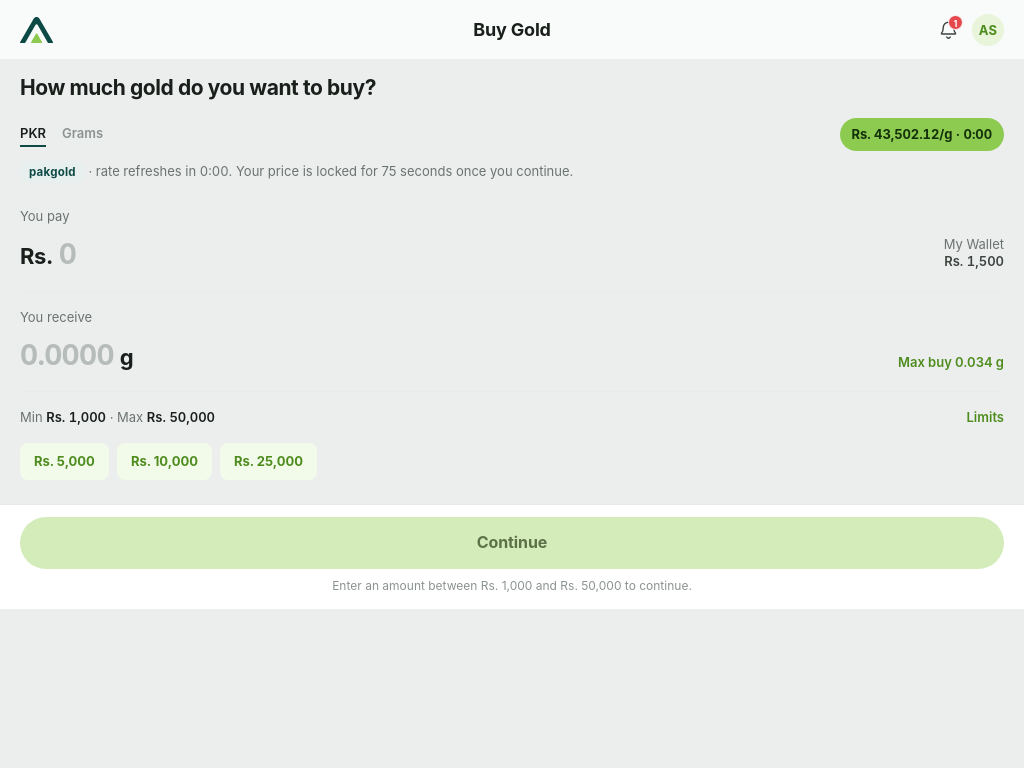
Test: who decides an order cannot go through › answers a short wallet immediately, without asking the server
This screenshot has width=1024, height=768.
Type "5000" into the field named "You pay in PKR" at (495, 254), box x1=59 y1=234 x2=932 y2=275
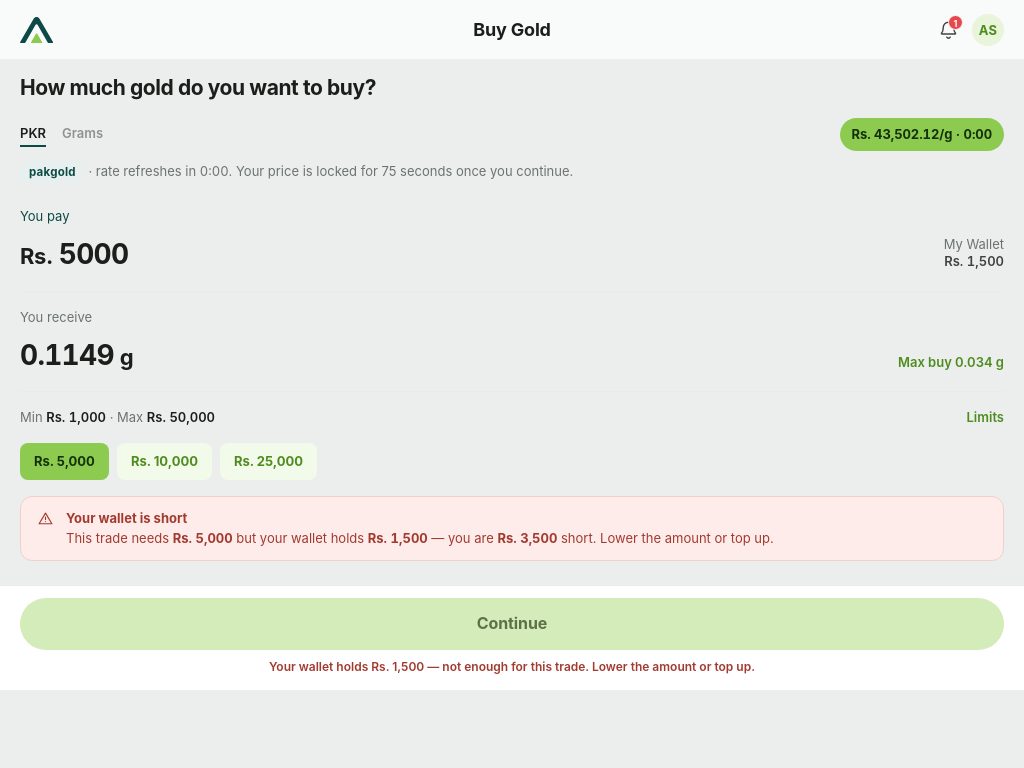
Expected: the text "Your wallet is short" is shown, x1=66 y1=510 x2=187 y2=526
